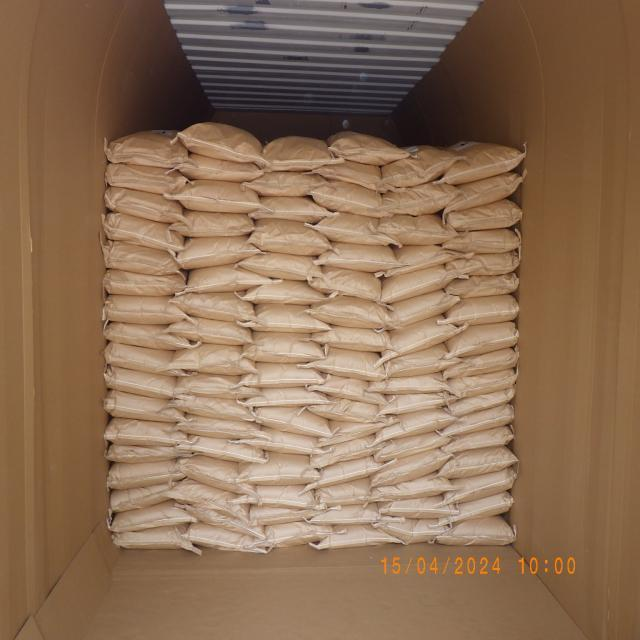gunny_bag: (378, 316, 462, 366), (173, 450, 258, 496), (443, 140, 526, 186), (178, 122, 264, 164), (383, 142, 460, 188), (174, 502, 268, 539), (443, 170, 525, 212), (369, 447, 453, 488), (167, 478, 249, 520), (246, 218, 332, 258), (105, 128, 190, 168), (380, 264, 464, 304), (384, 290, 462, 332), (170, 179, 262, 214), (101, 341, 188, 378), (312, 211, 401, 247), (104, 212, 184, 252), (102, 186, 186, 224), (376, 406, 460, 444), (381, 179, 462, 218), (325, 129, 410, 166), (168, 342, 257, 377), (308, 294, 394, 330), (108, 500, 196, 535), (174, 234, 264, 268), (310, 180, 390, 218), (441, 466, 517, 506), (306, 454, 386, 492), (104, 364, 187, 400), (374, 212, 461, 246), (257, 136, 339, 172), (238, 455, 324, 489), (240, 331, 328, 364), (182, 520, 267, 554), (445, 320, 521, 358), (308, 265, 386, 302), (382, 242, 462, 278), (382, 342, 462, 378), (101, 241, 183, 276), (238, 424, 327, 456), (177, 431, 266, 463), (171, 290, 257, 323), (312, 160, 393, 195), (244, 406, 332, 438), (309, 434, 387, 470), (306, 346, 388, 380), (104, 389, 186, 423), (437, 444, 519, 478), (104, 162, 188, 195), (438, 492, 515, 528), (102, 294, 190, 325), (444, 198, 524, 232), (181, 264, 271, 294), (176, 154, 266, 184), (312, 243, 399, 274), (166, 316, 254, 346), (242, 304, 330, 334), (103, 320, 191, 350), (236, 252, 324, 282), (172, 393, 260, 423), (374, 431, 454, 464), (369, 472, 456, 502), (307, 374, 388, 406), (104, 418, 190, 448), (436, 515, 518, 546), (234, 484, 328, 511), (444, 294, 520, 327), (444, 347, 520, 380), (170, 209, 256, 238), (312, 527, 404, 554), (106, 462, 188, 492), (443, 404, 515, 438), (254, 519, 332, 550), (239, 362, 328, 389), (111, 529, 200, 556), (175, 413, 264, 440), (240, 278, 328, 305), (172, 371, 260, 398), (104, 270, 188, 298), (309, 326, 393, 354), (244, 170, 328, 198), (308, 396, 392, 424), (108, 484, 186, 514), (373, 515, 452, 544), (440, 424, 515, 454), (444, 368, 516, 399), (248, 196, 330, 223), (445, 386, 516, 417), (442, 227, 522, 254), (308, 478, 379, 508), (446, 250, 522, 278), (377, 494, 458, 520), (445, 272, 521, 298), (315, 421, 387, 448), (241, 386, 329, 408), (378, 391, 458, 415), (105, 442, 193, 463), (370, 374, 453, 396), (309, 503, 382, 528), (248, 506, 329, 527)
